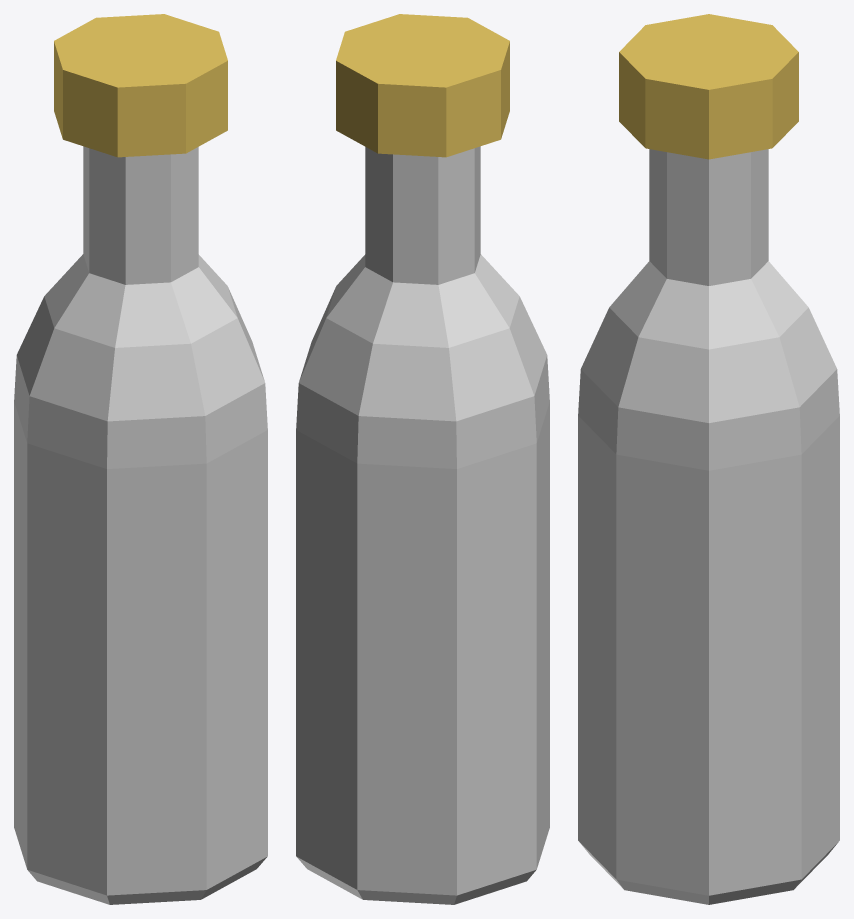
The model's file is Bottle.fbx.
3 views of the same model, side by side, from view 1: azimuth 30°, elevation 25°; view 2: azimuth 150°, elevation 25°; view 3: azimuth 270°, elevation 25° (orthographic).
Visible parts, largest first — view 1: Bottle; view 2: Bottle; view 3: Bottle.
Boxes of the visible parts, x1,y1,x2,y2 form: Bottle: [14, 14, 267, 904]; Bottle: [296, 14, 549, 904]; Bottle: [578, 14, 839, 904].
Size of the model in its own units: 0.17 by 0.5748 by 0.17.
